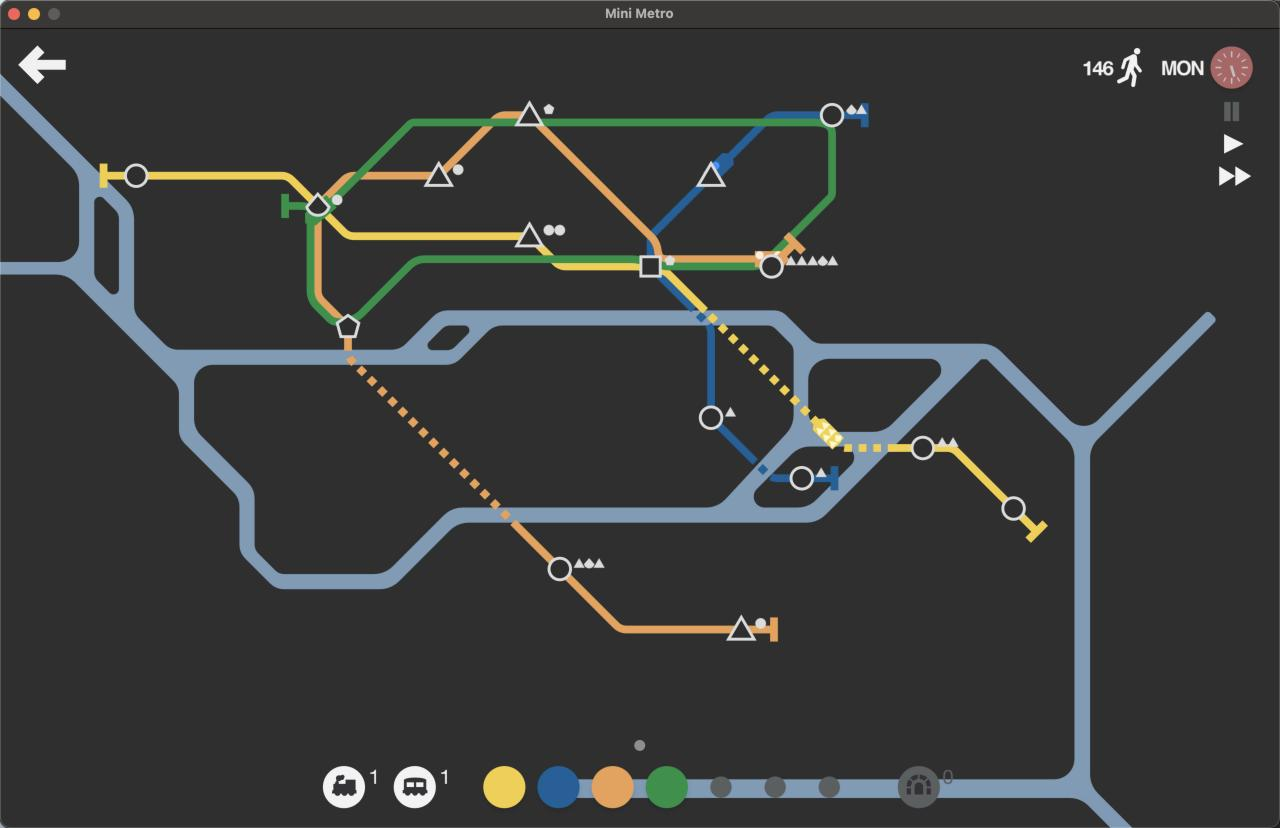CIRCLE: (758, 252, 785, 280), (698, 404, 724, 431), (546, 556, 573, 582), (1001, 495, 1027, 521), (789, 465, 815, 491), (124, 162, 149, 188), (820, 102, 845, 128), (911, 435, 936, 460)
PENTAGON: (335, 313, 361, 341)
SQUARE: (639, 254, 663, 278)
TRIANGLE: (726, 613, 758, 642), (696, 159, 726, 188), (514, 221, 545, 249), (424, 160, 454, 187), (515, 100, 545, 126)
WEDGE: (305, 191, 332, 218)
